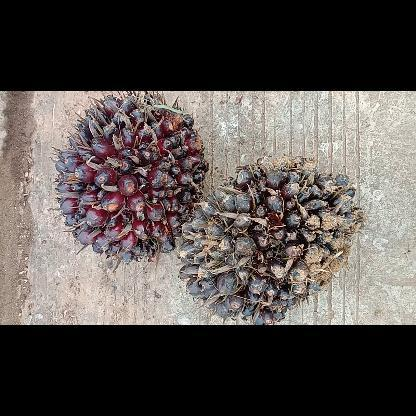TBS mentah: (176, 154, 364, 324), (50, 90, 209, 264)
